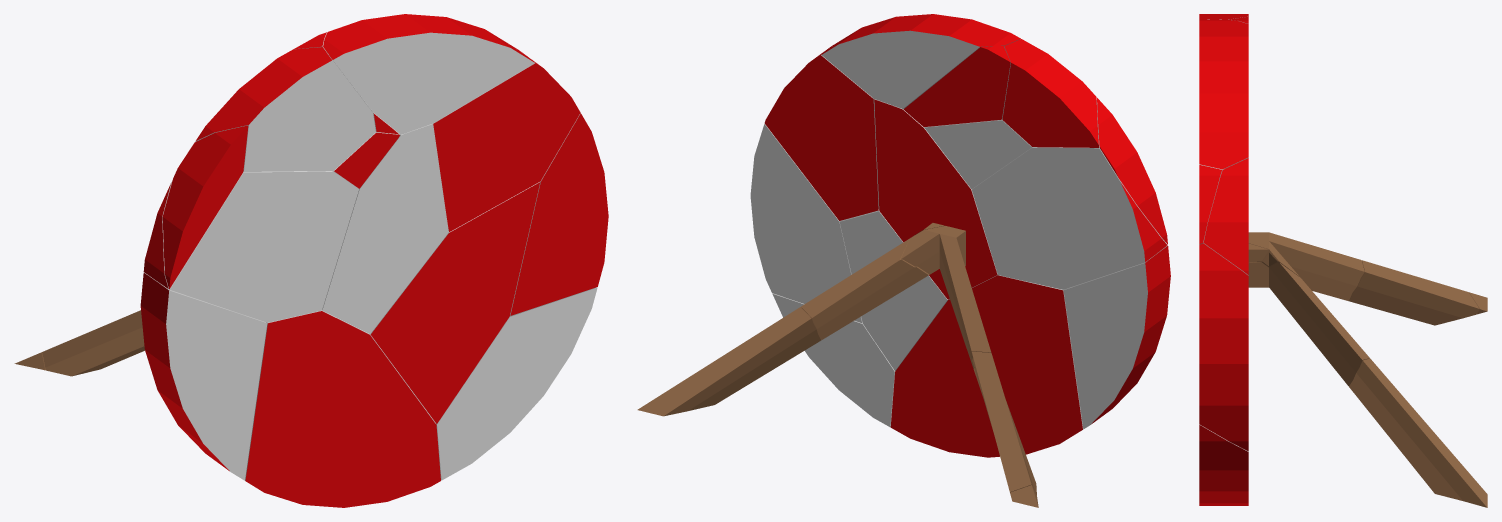
Rendered from TargetBroken.fbx.
The picture shows the model from 3 angles, left to right: view 1: azimuth 30°, elevation 25°; view 2: azimuth 150°, elevation 25°; view 3: azimuth 270°, elevation 25°; orthographic projection. The views are drawn at different scales.
Visible parts, largest first — view 1: Cylinder_cell.013, Cylinder_cell.004, Cylinder_cell.005, Cylinder_cell.007, Cylinder_cell.002, Cylinder_cell.006, Cylinder_cell.012, Cylinder_cell.003, Cylinder_cell.001, Cylinder_cell.011, Cylinder_cell.009, Cube_cell.001 (+1 smaller); view 2: Cylinder_cell.013, Cylinder_cell.004, Cylinder_cell, Cylinder_cell.007, Cylinder_cell.011, Cylinder_cell.006, Cylinder_cell.002, Cylinder_cell.003, Cube_cell.003, Cylinder_cell.005, Cylinder_cell.001, Cylinder_cell.008 (+5 smaller); view 3: Cylinder_cell.011, Cylinder_cell.002, Cube_cell.003, Cube_cell.001, Cube_cell.006, Cube_cell.002, Cylinder_cell, Cylinder_cell.001, Cylinder_cell.012.
Part boxes in pixels (x1,y1,x2,y2): Cylinder_cell.013: (245, 310, 440, 507); Cylinder_cell.004: (143, 171, 358, 322); Cylinder_cell.005: (370, 182, 540, 423); Cylinder_cell.007: (140, 272, 267, 480); Cylinder_cell.002: (323, 14, 534, 134); Cylinder_cell.006: (322, 123, 448, 333); Cylinder_cell.012: (433, 57, 580, 232); Cylinder_cell.003: (195, 47, 375, 171); Cylinder_cell.001: (436, 287, 597, 480); Cylinder_cell.011: (509, 113, 608, 316); Cylinder_cell.009: (162, 125, 248, 289); Cube_cell.001: (42, 310, 144, 376); Cylinder_cell.013: (890, 275, 1083, 457); Cylinder_cell.004: (972, 145, 1167, 289); Cylinder_cell: (764, 52, 878, 220); Cylinder_cell.007: (1063, 245, 1170, 429); Cylinder_cell.011: (750, 123, 862, 322); Cylinder_cell.006: (873, 98, 997, 299); Cylinder_cell.002: (822, 14, 1020, 108); Cylinder_cell.003: (1002, 39, 1099, 147); Cube_cell.003: (637, 307, 821, 416); Cylinder_cell.005: (839, 209, 949, 370); Cylinder_cell.001: (772, 293, 895, 427); Cylinder_cell.008: (903, 46, 1010, 126); Cylinder_cell.011: (1199, 243, 1248, 451); Cylinder_cell.002: (1199, 19, 1248, 169); Cube_cell.003: (1349, 358, 1487, 507); Cube_cell.001: (1349, 260, 1479, 325); Cube_cell.006: (1248, 262, 1369, 386); Cube_cell.002: (1248, 232, 1364, 301); Cylinder_cell: (1203, 158, 1248, 275); Cylinder_cell.001: (1199, 424, 1248, 505); Cylinder_cell.012: (1199, 164, 1223, 244).
Size of the model in its own units: 202 by 200 by 117.
